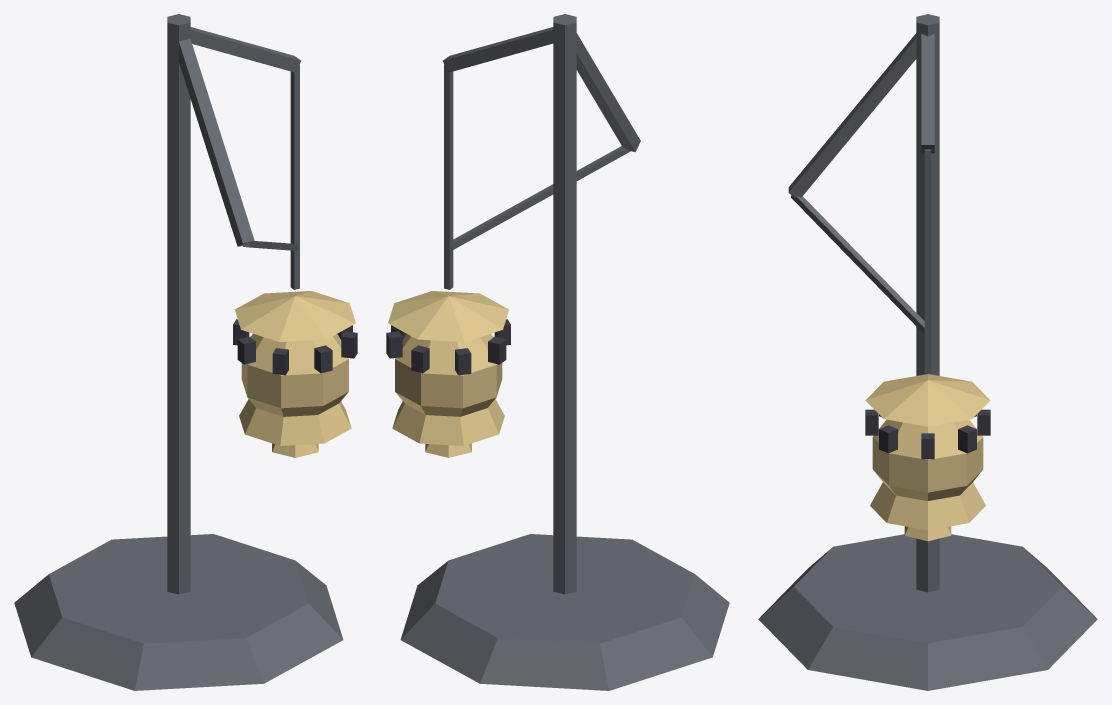
File: vampire-crypt-and-gothic-cathedral-censer-5976453c__23007.glb
3 renders of one model, left to right at view 1: azimuth 30°, elevation 25°; view 2: azimuth 150°, elevation 25°; view 3: azimuth 270°, elevation 25°, orthographic.
Parts seen in each view (by area): view 1: censer; view 2: censer; view 3: censer.
Part boxes in pixels (box(x1,y1,x2,y2)): censer: box(14, 14, 357, 690); censer: box(386, 14, 729, 690); censer: box(758, 14, 1097, 690).
Bounding box in the file's own units: 0.82 × 1.48 × 0.76.
